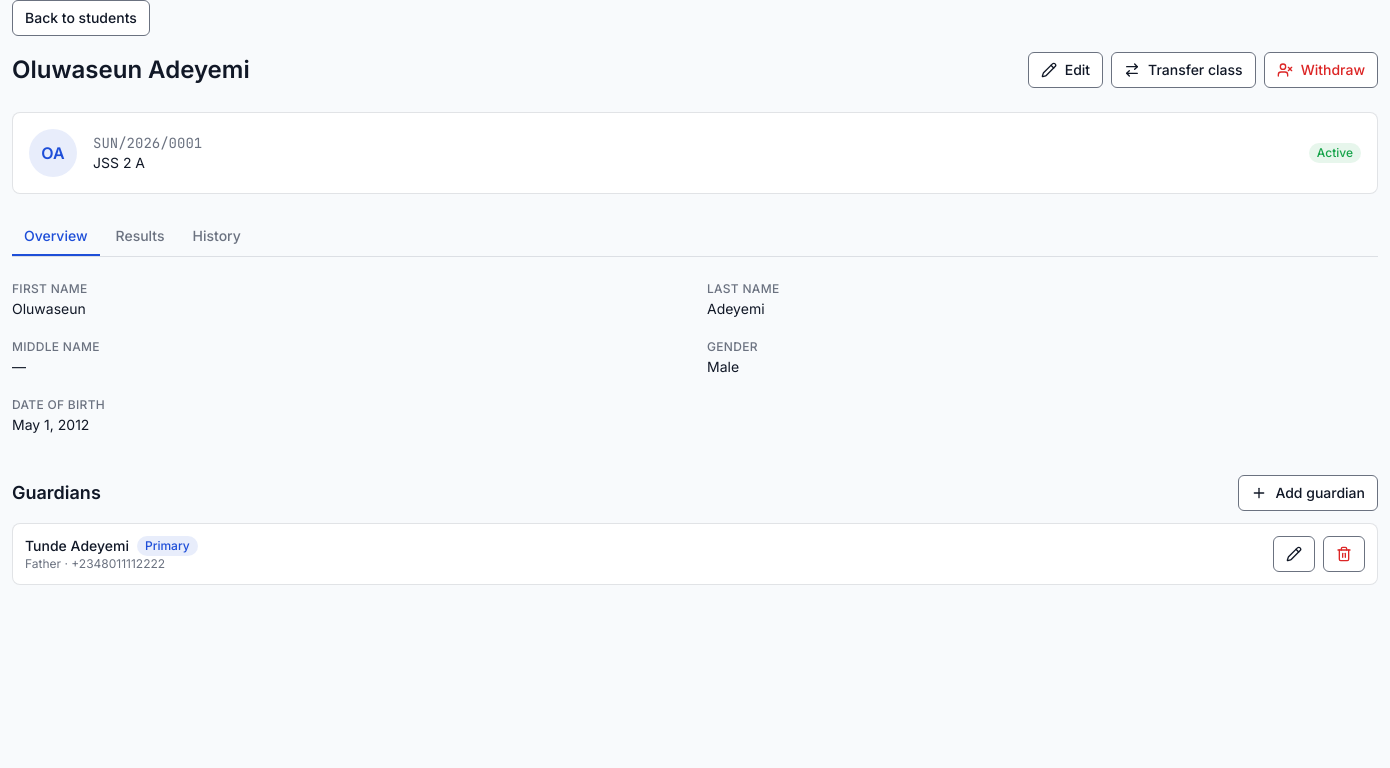
Scenario: StudentDetailPage — History tab › shows an empty message when there is no recorded activity
This screenshot has width=1390, height=768.
Expected: the heading "Oluwaseun Adeyemi" is shown, [12,54,250,86]
Click the tab "History". click: [217, 237]
box: [180,218,253,256]
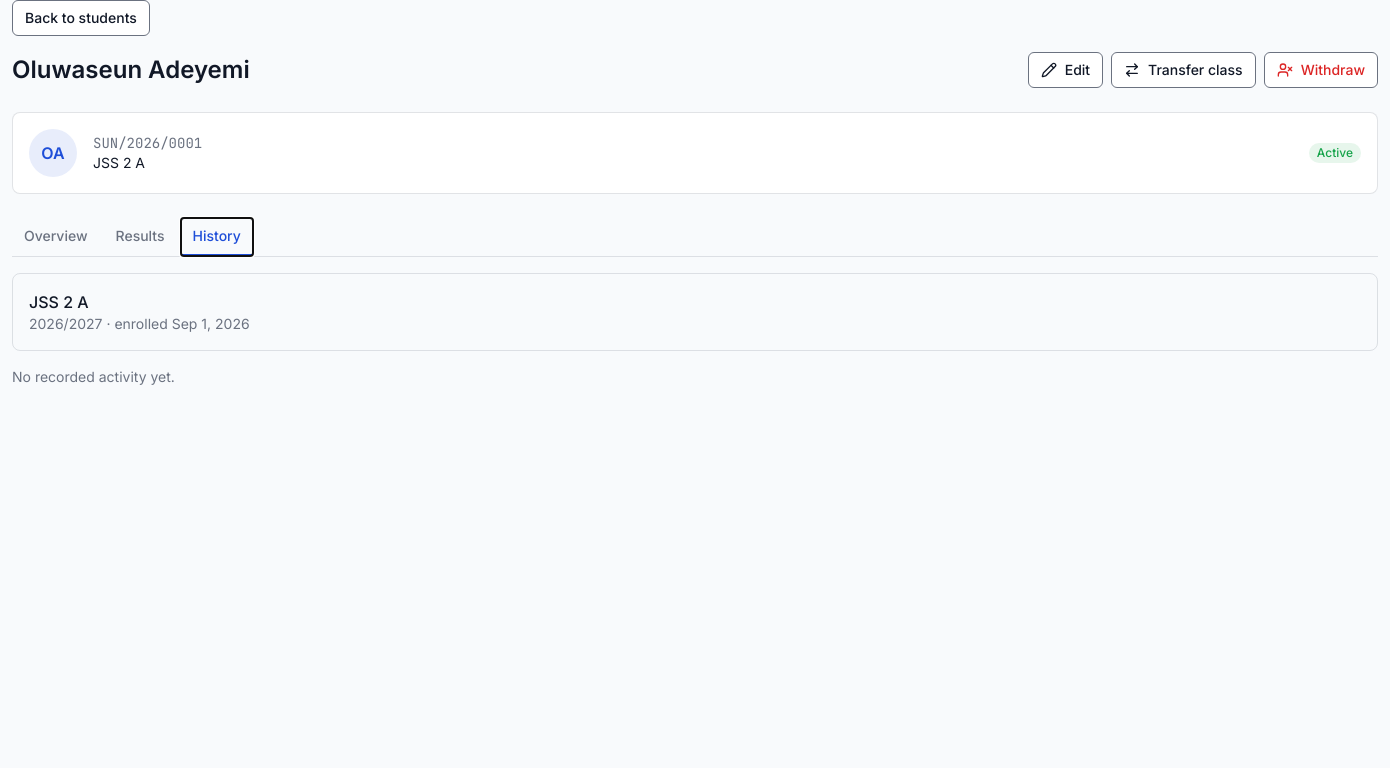
Now the text "No recorded activity yet." is shown, box [12,368,175,385]
